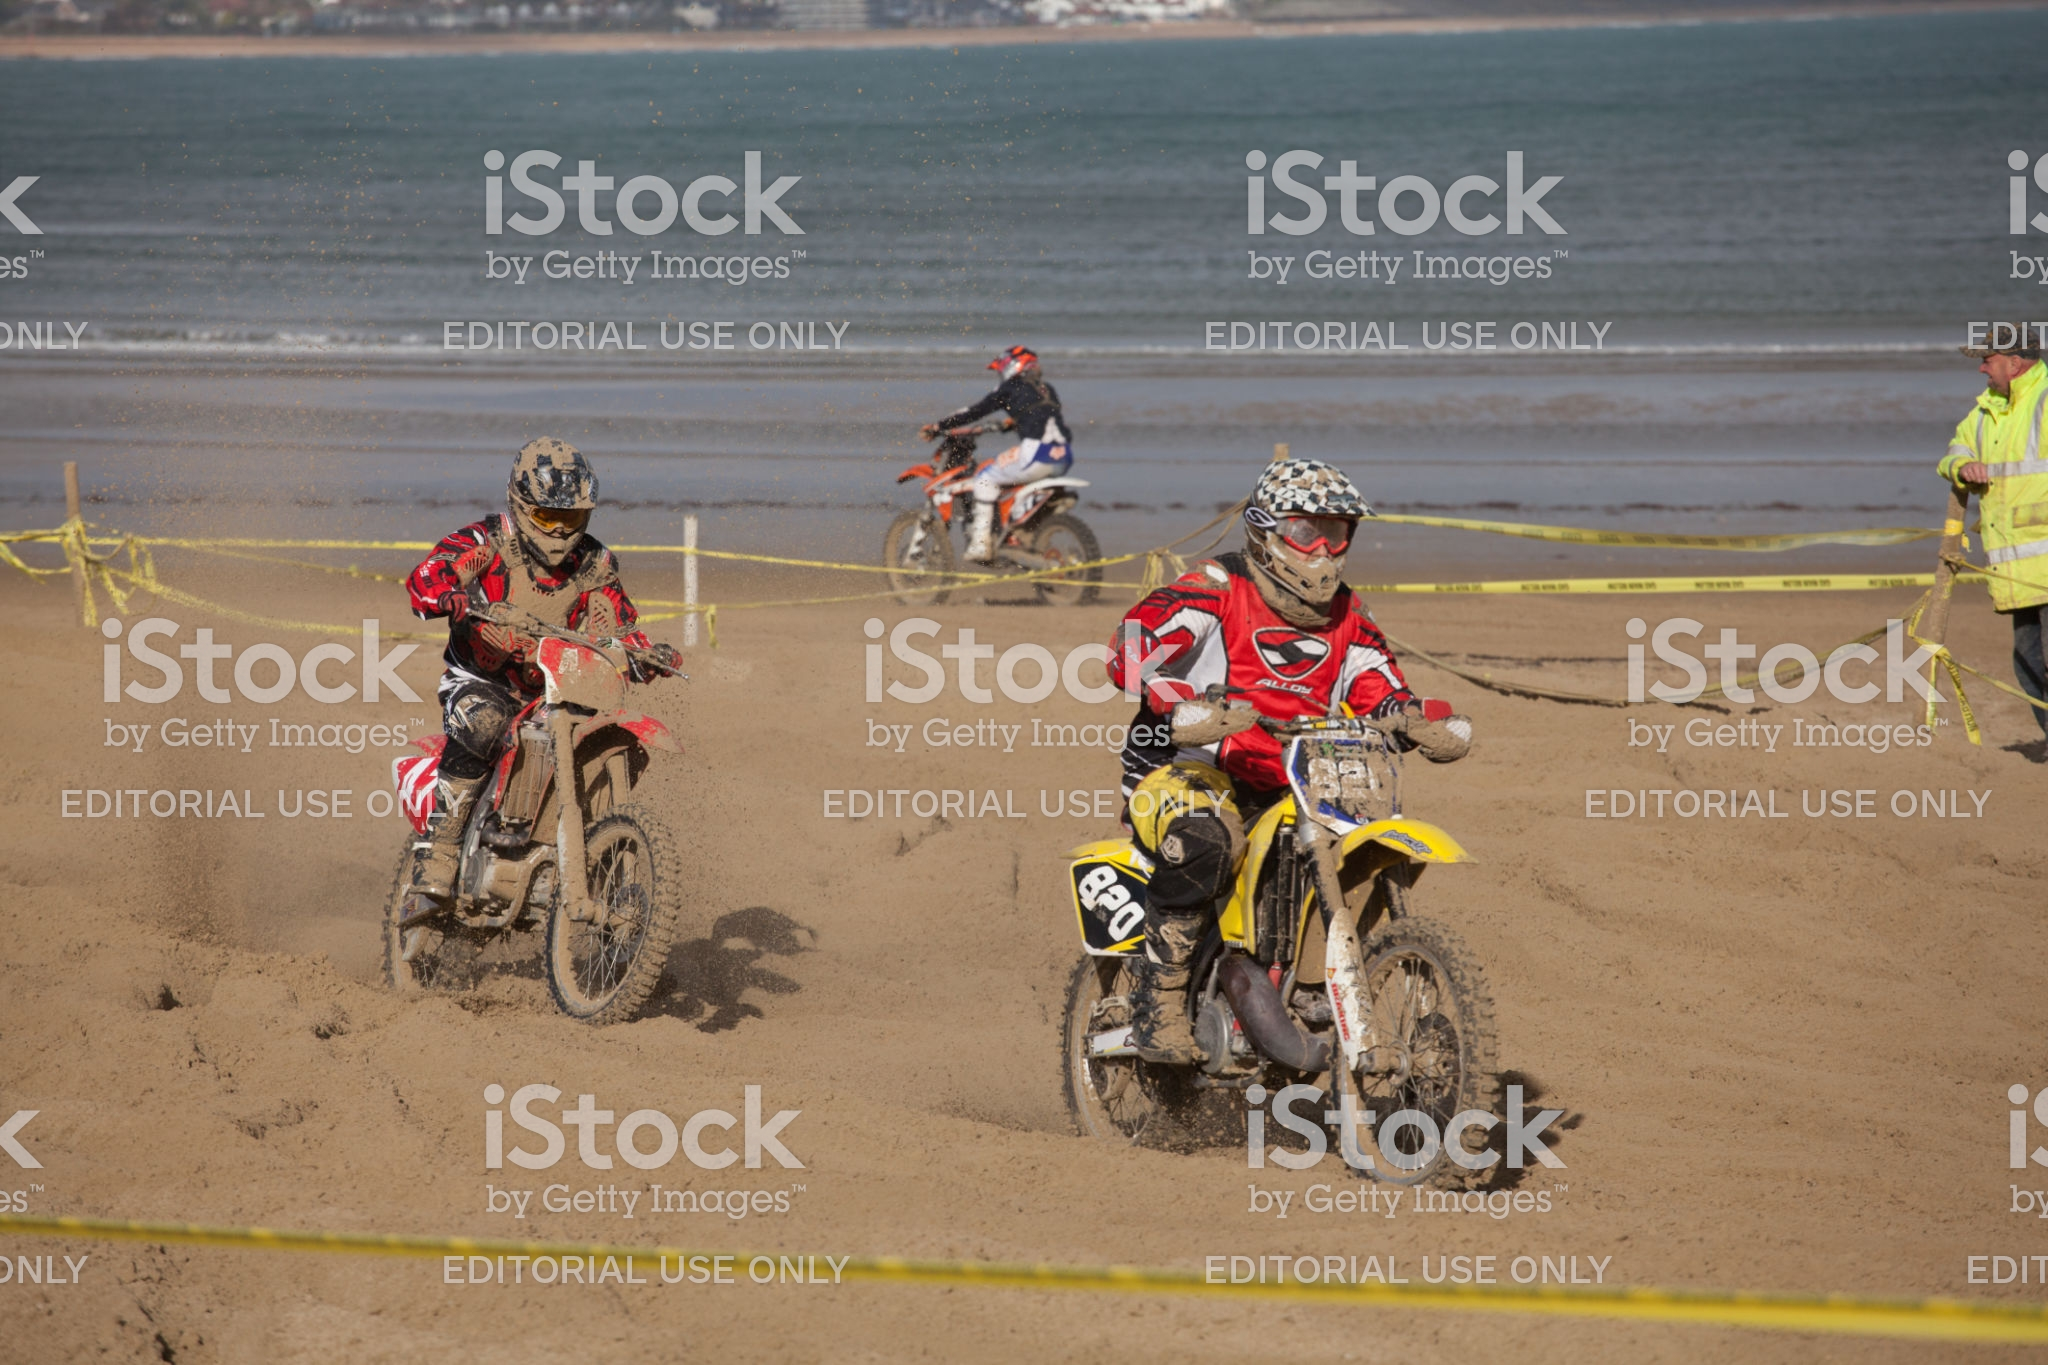helmet: (1226, 462, 1380, 623), (502, 424, 600, 571)
